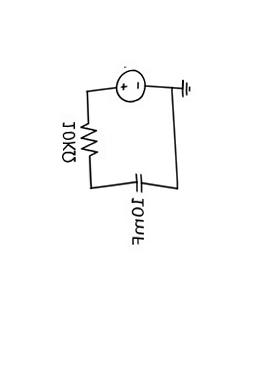Battery: (105, 59, 152, 112)
